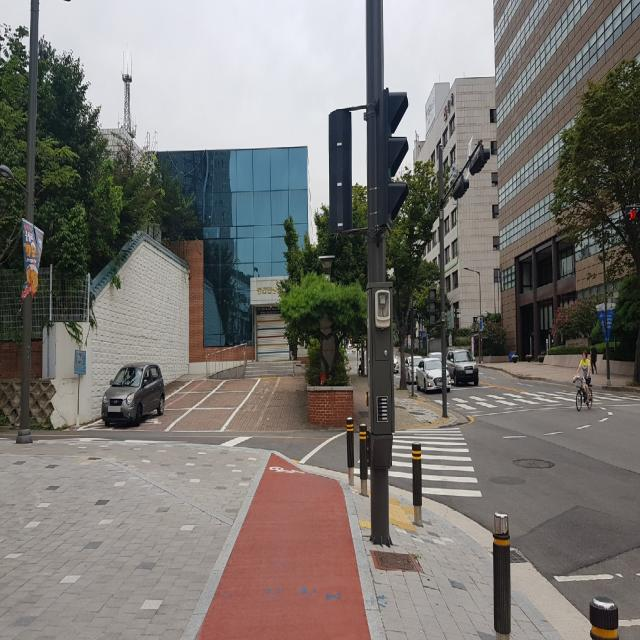횡단보도: (354, 428, 482, 497), (454, 392, 576, 409)
